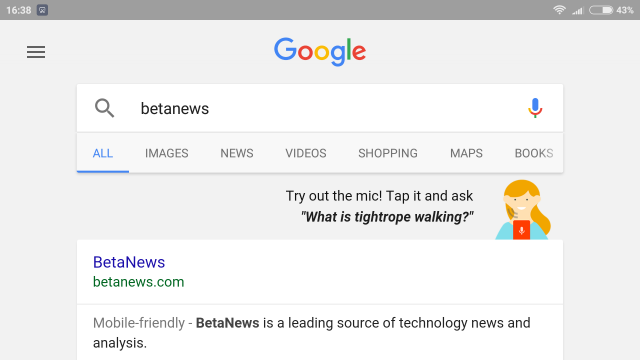searchIcon: (92, 92, 114, 122)
